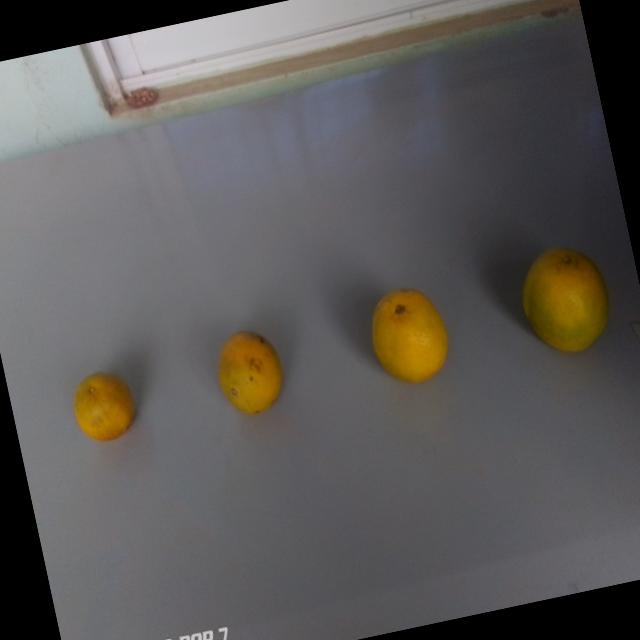agrume: (503, 225, 621, 375), (351, 277, 461, 399), (200, 316, 300, 432), (60, 351, 147, 453)
